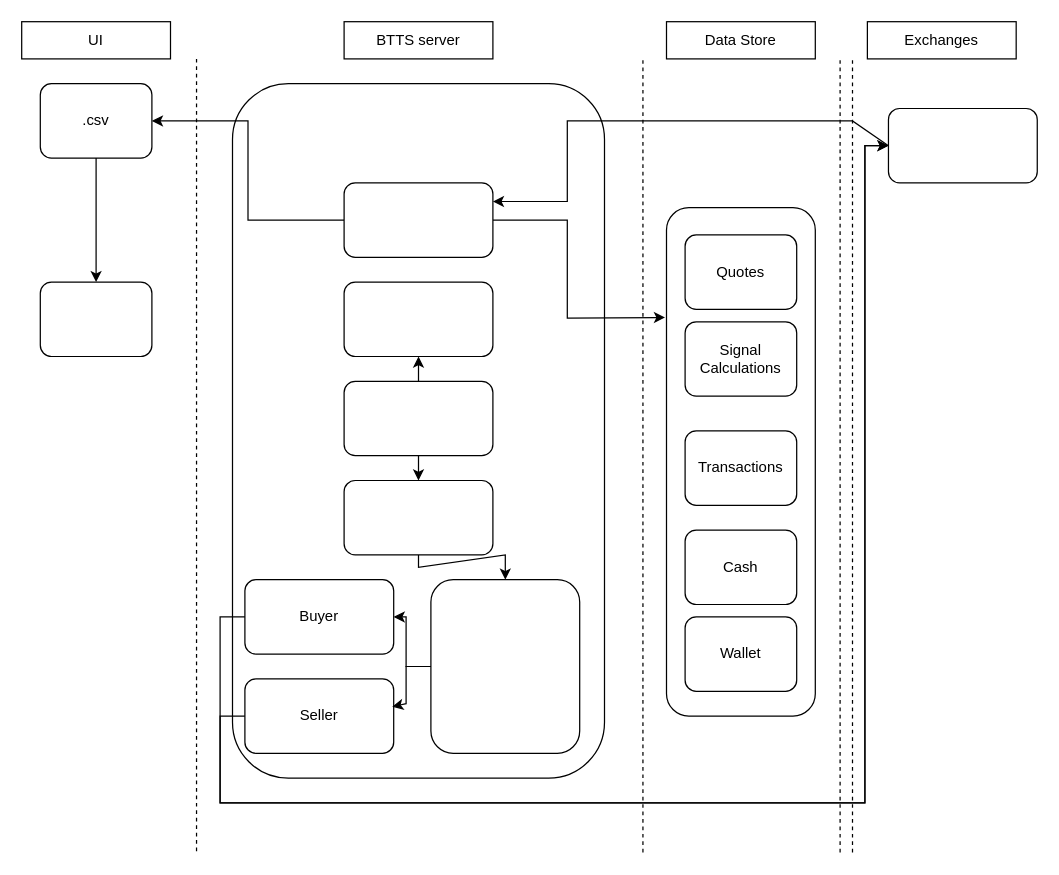
Some shapes in this 1059 by 875 pixel diagram are drawn without their labels. The centre of each missing label's shape, as x and y in pixels:
Broker: [418,517]
Data pump: [418,219]
Exchange 1: [962,145]
Order Manager: [418,418]
Signal calculator core: [418,318]
Trade charts: [95,318]
Transaction Manager: [505,665]
